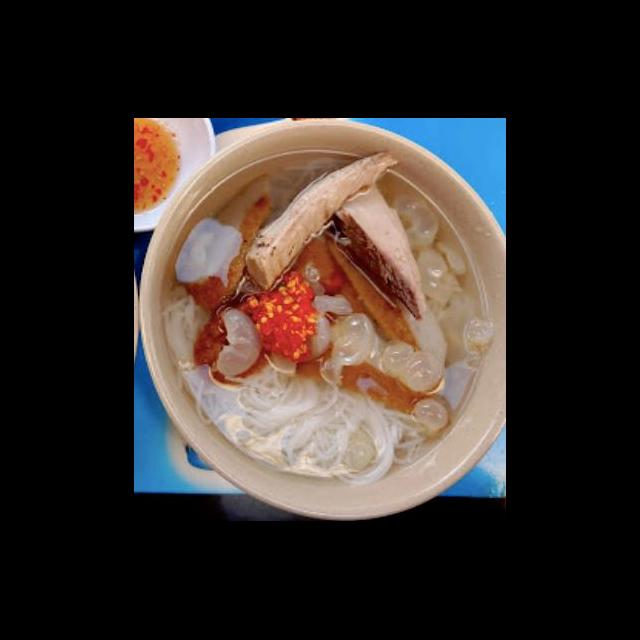bun: (174, 364, 427, 492)
bun ca: (142, 149, 506, 521)
ca: (243, 148, 405, 296), (316, 168, 434, 328)
